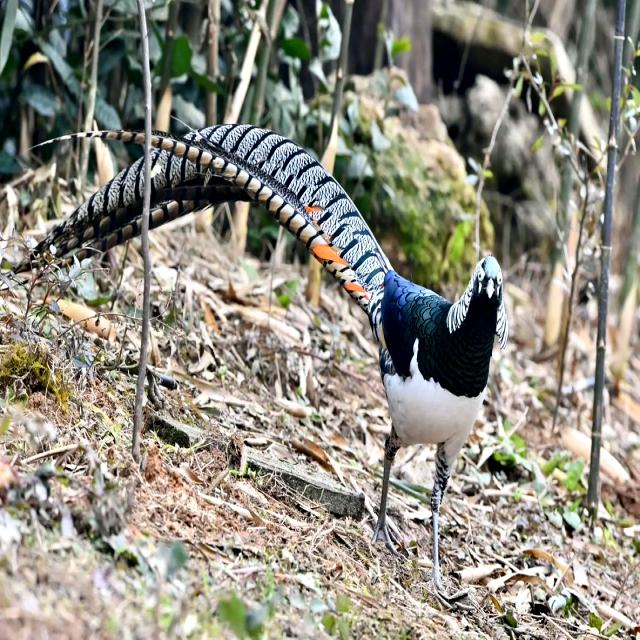Chrysolophus amherstiae: (150, 124, 392, 338), (35, 158, 144, 257)
